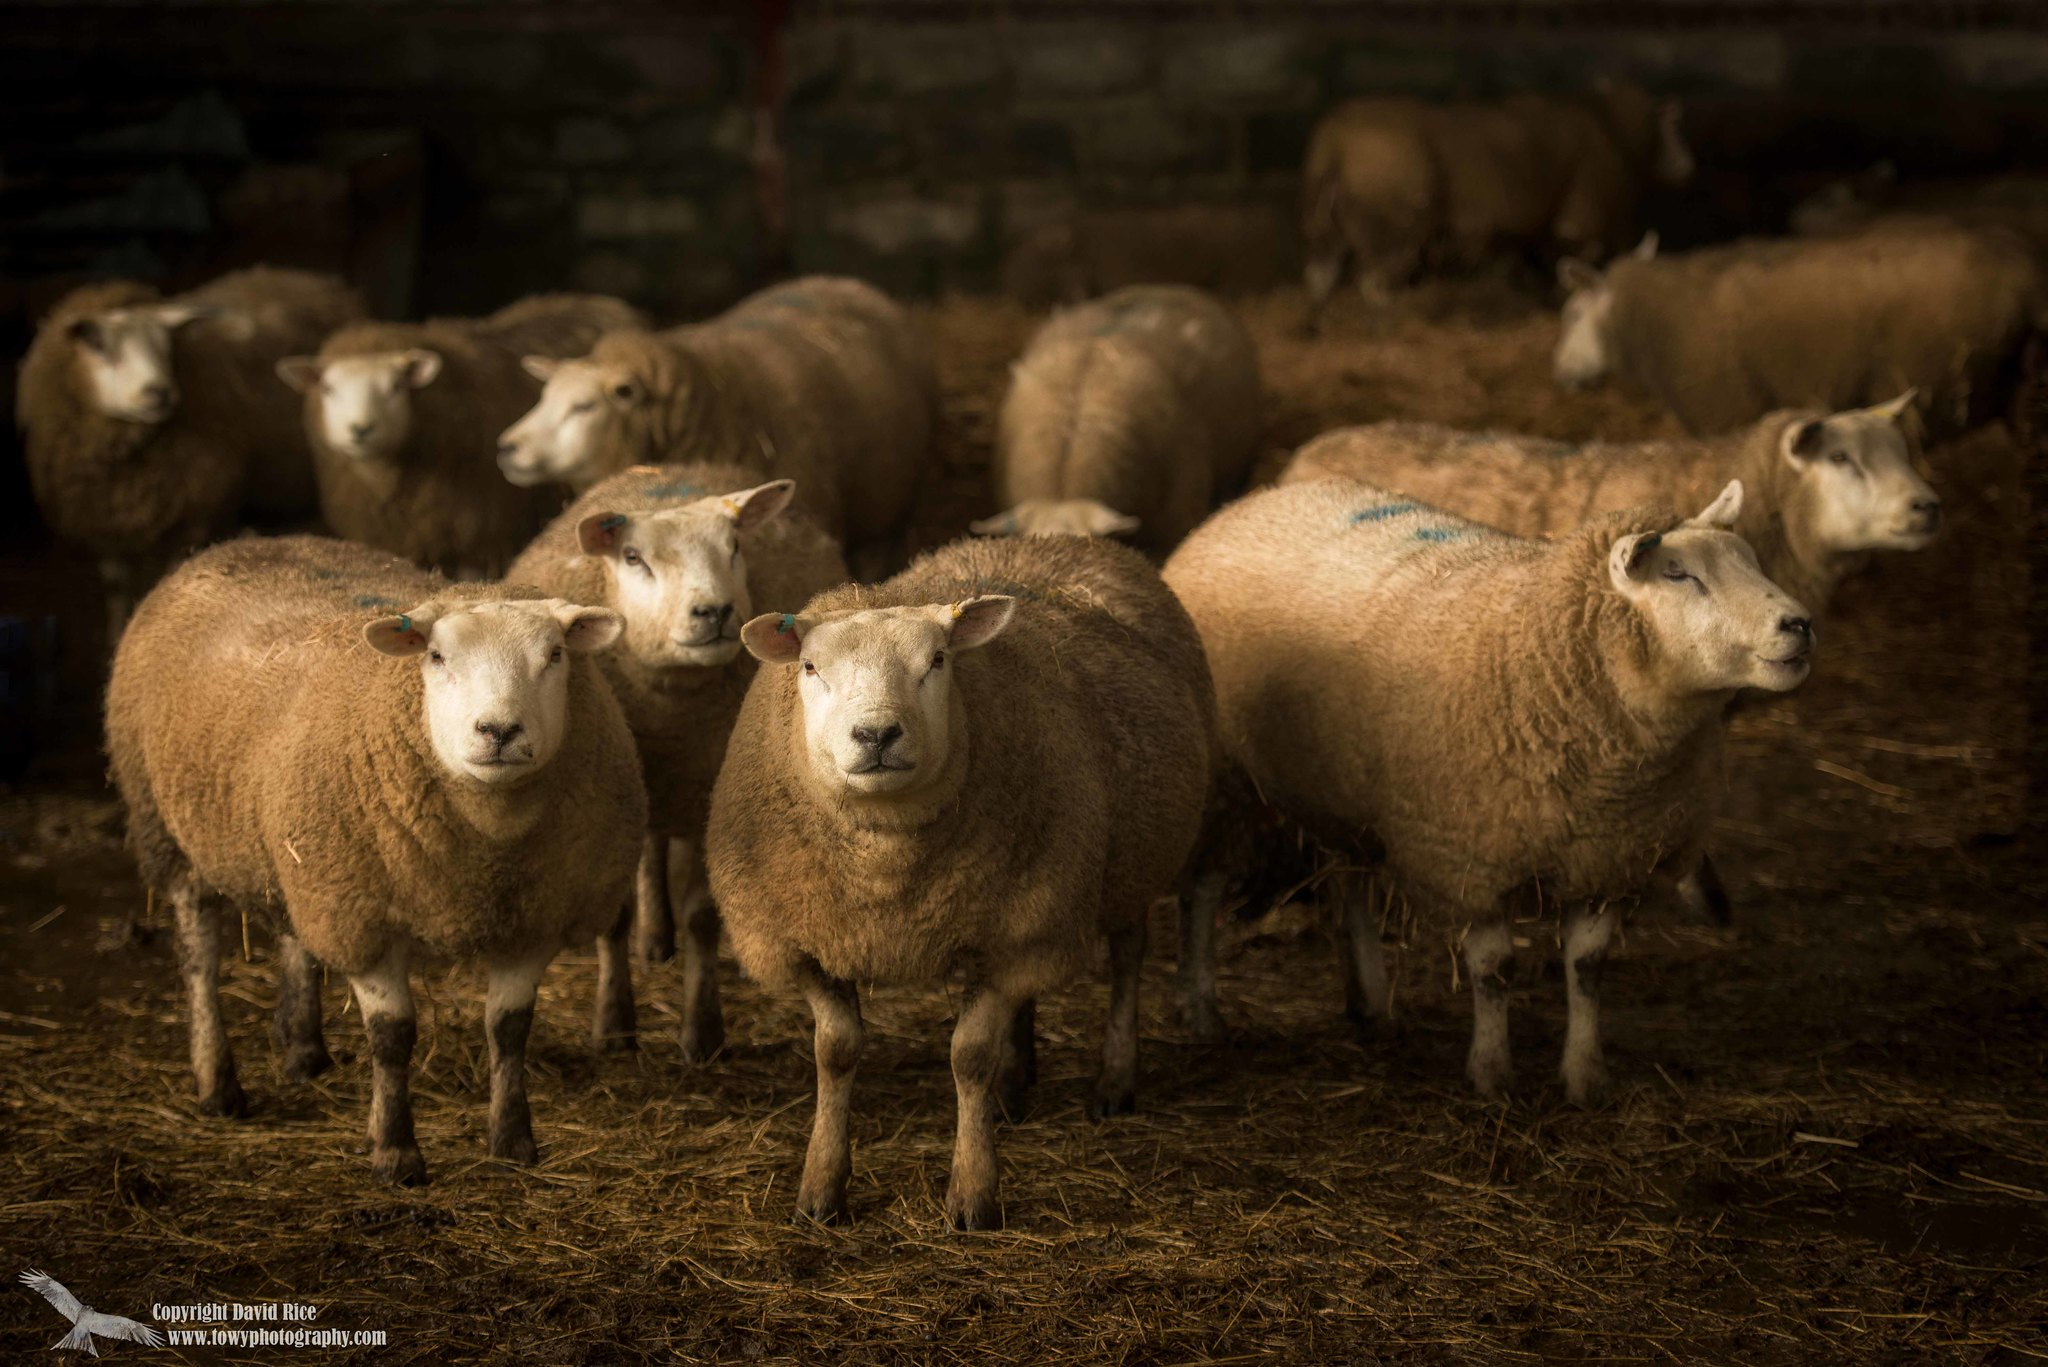sheep: (1191, 474, 1831, 1126), (91, 523, 653, 1173), (720, 532, 1217, 1224), (517, 487, 834, 732)
